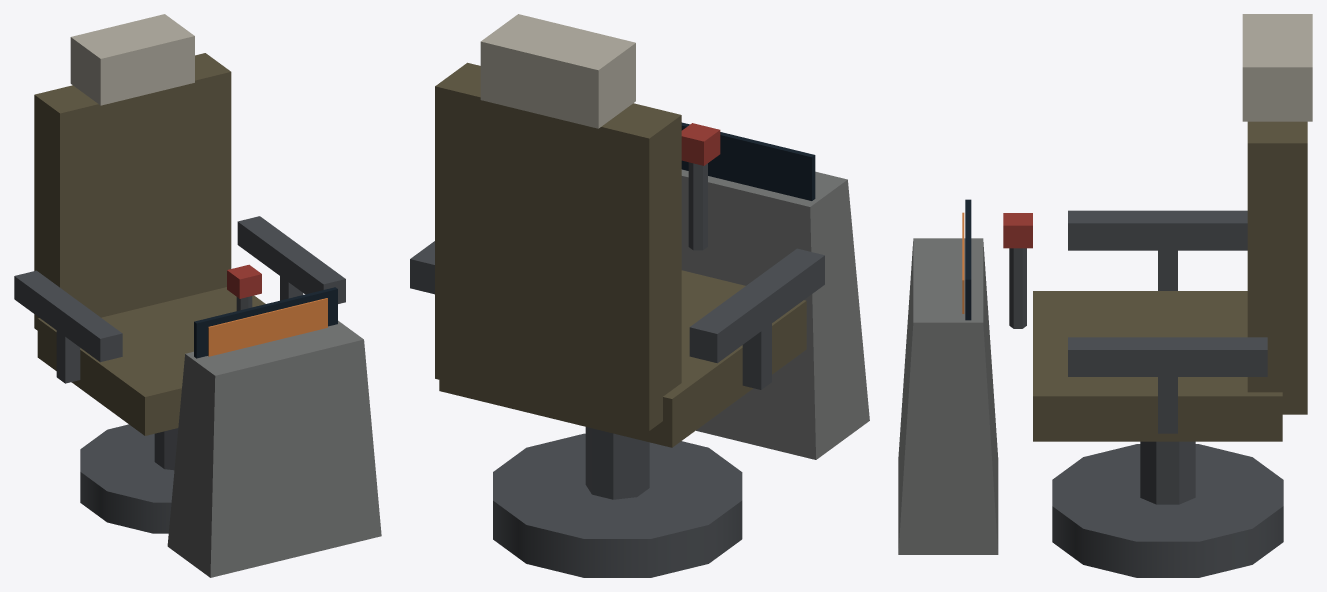
Rendered from rebel_seat.glb.
3 views of the same model, side by side, from view 1: azimuth 30°, elevation 25°; view 2: azimuth 150°, elevation 25°; view 3: azimuth 270°, elevation 25° (orthographic). The views are drawn at different scales.
Parts seen in each view (by area): view 1: rebel_seat; view 2: rebel_seat; view 3: rebel_seat.
Part boxes in pixels (bbox=[...]): rebel_seat: bbox=[14, 14, 381, 577]; rebel_seat: bbox=[410, 14, 869, 577]; rebel_seat: bbox=[898, 14, 1312, 577].
Size of the model in its own units: 0.66 by 1.08 by 0.83.
